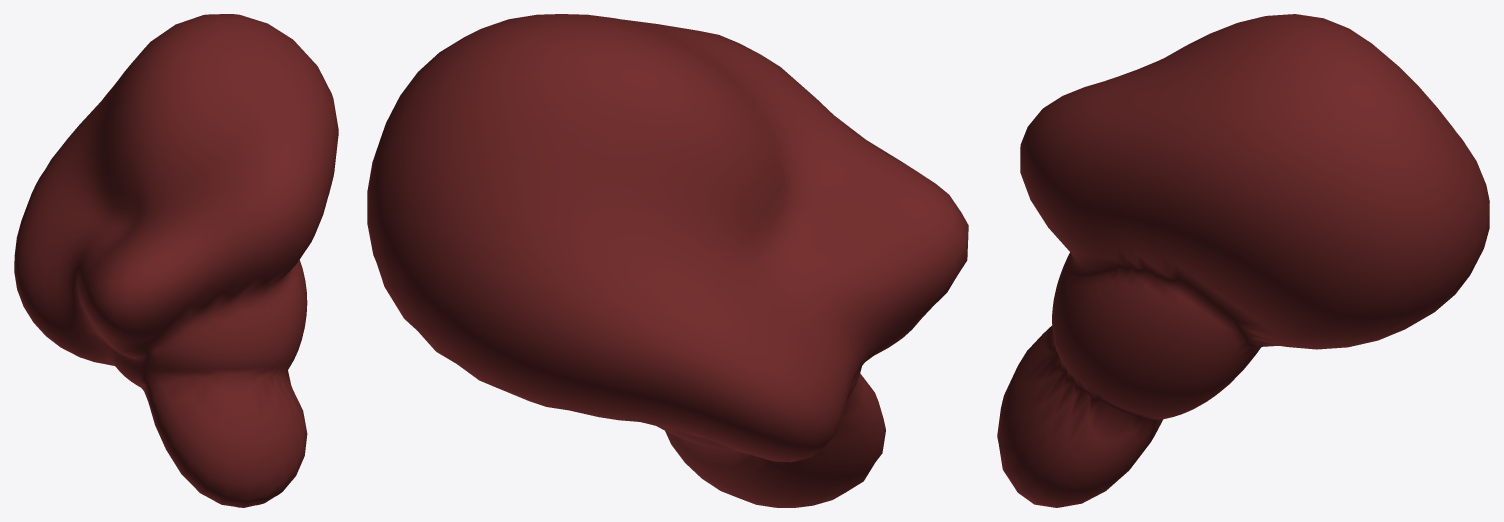
Rendered from stone3.fbx.
3 renders of one model, left to right at view 1: azimuth 30°, elevation 25°; view 2: azimuth 150°, elevation 25°; view 3: azimuth 270°, elevation 25°, orthographic. The views are drawn at different scales.
Parts seen in each view (by area): view 1: Cube.003; view 2: Cube.003; view 3: Cube.003.
Part boxes in pixels (x1=…): Cube.003: x1=14, y1=14, x2=338, y2=507; Cube.003: x1=367, y1=14, x2=968, y2=507; Cube.003: x1=997, y1=14, x2=1489, y2=507.
Bounding box in the file's own units: 340 × 408 × 361.
